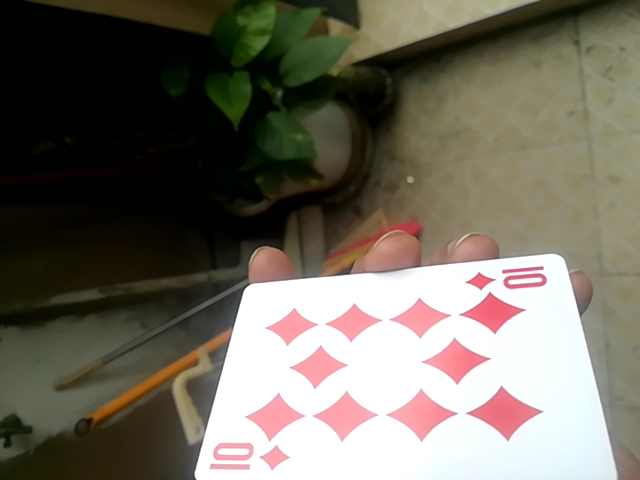fk 10: (191, 254, 607, 477)
